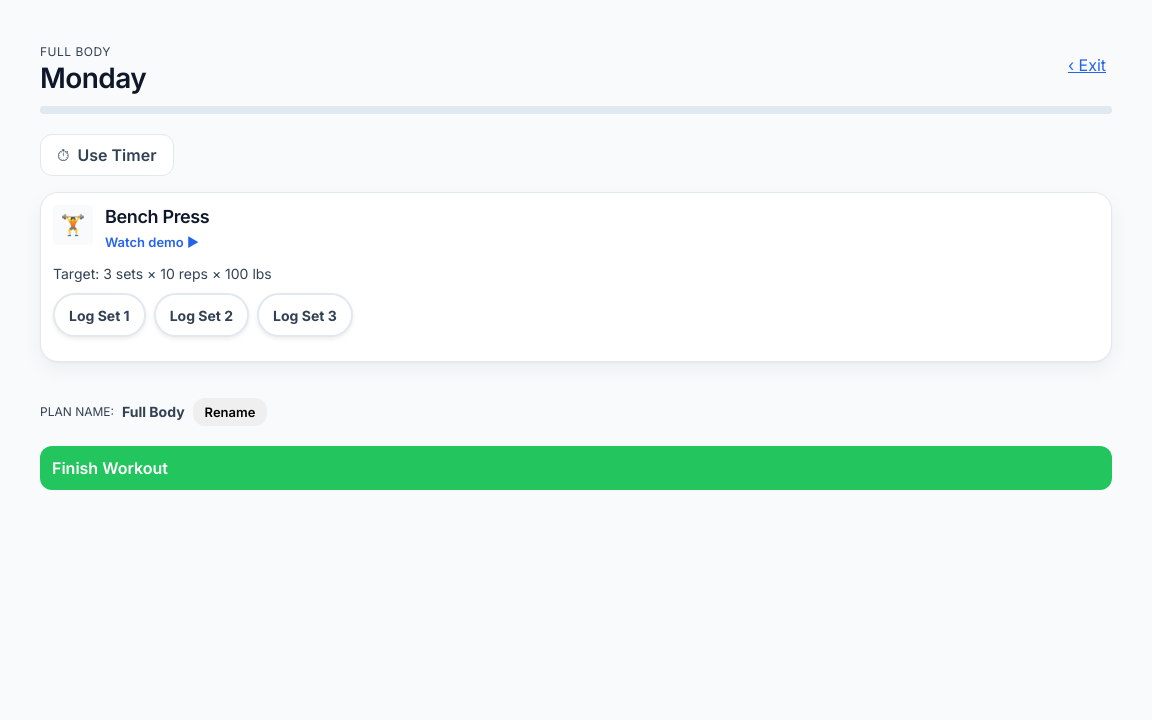
Test: ActiveWorkout › Standalone manual timer › Reset stops the timer and zeroes the display
Step 1. Click the button "⏱ Use Timer" → (107,155), box [40,134,174,176]
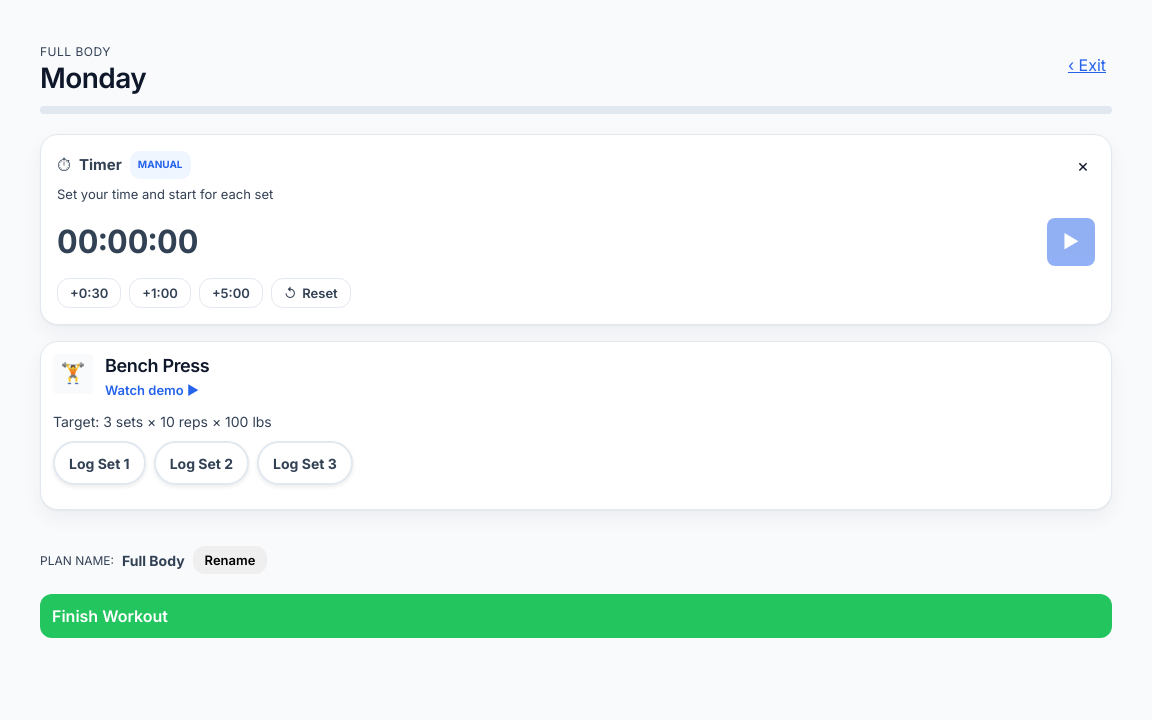
Step 2. Click the button "+1:00" → (160,293), box [129,278,191,308]
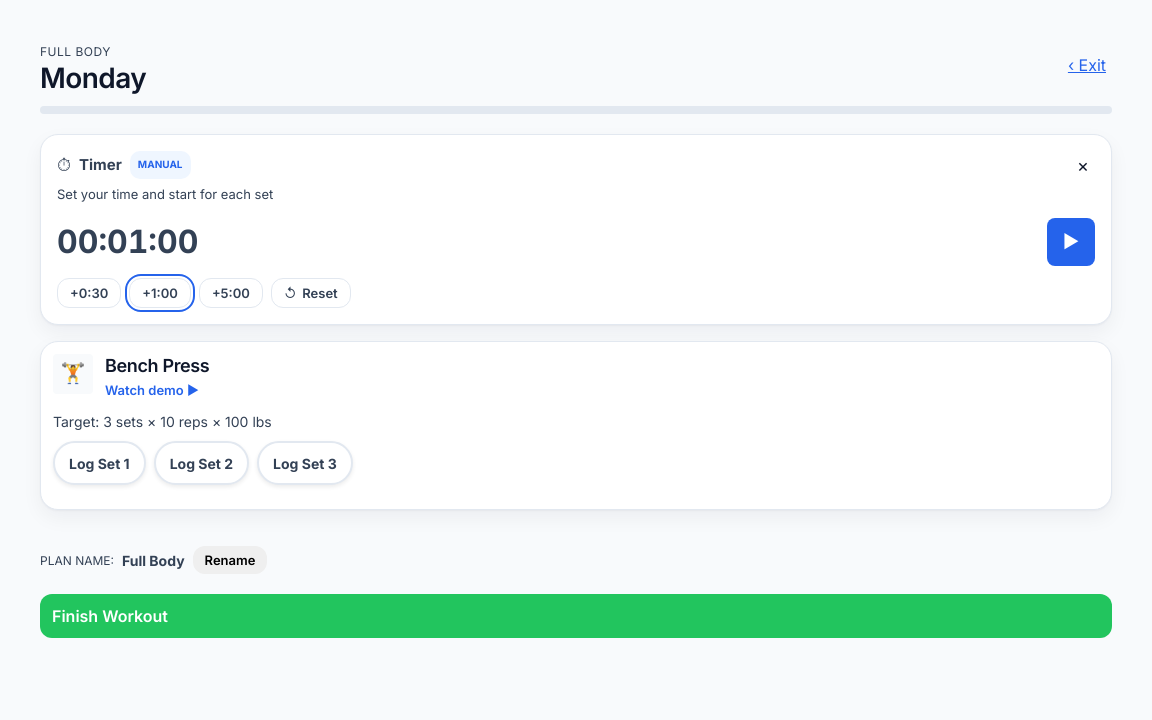
Step 3. Click the button named "Start timer" → (1071,242), box [1047,218,1095,266]
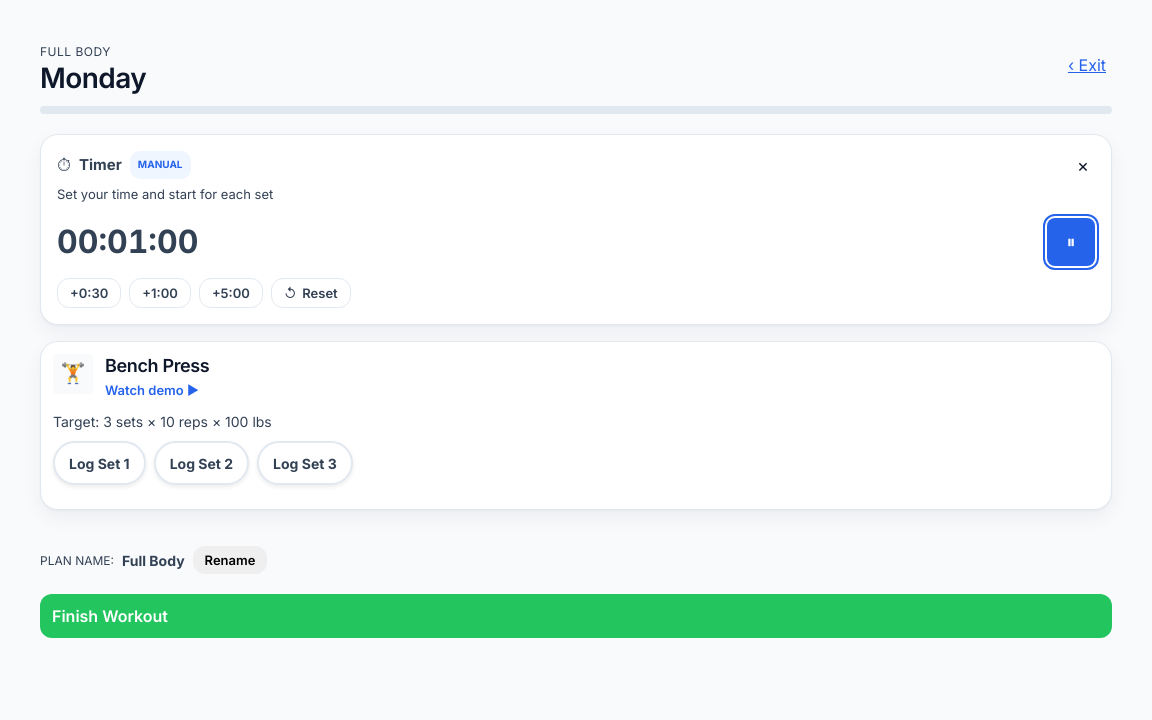
Step 4. Click the button "↺ Reset" → (311,293), box [271,278,351,308]
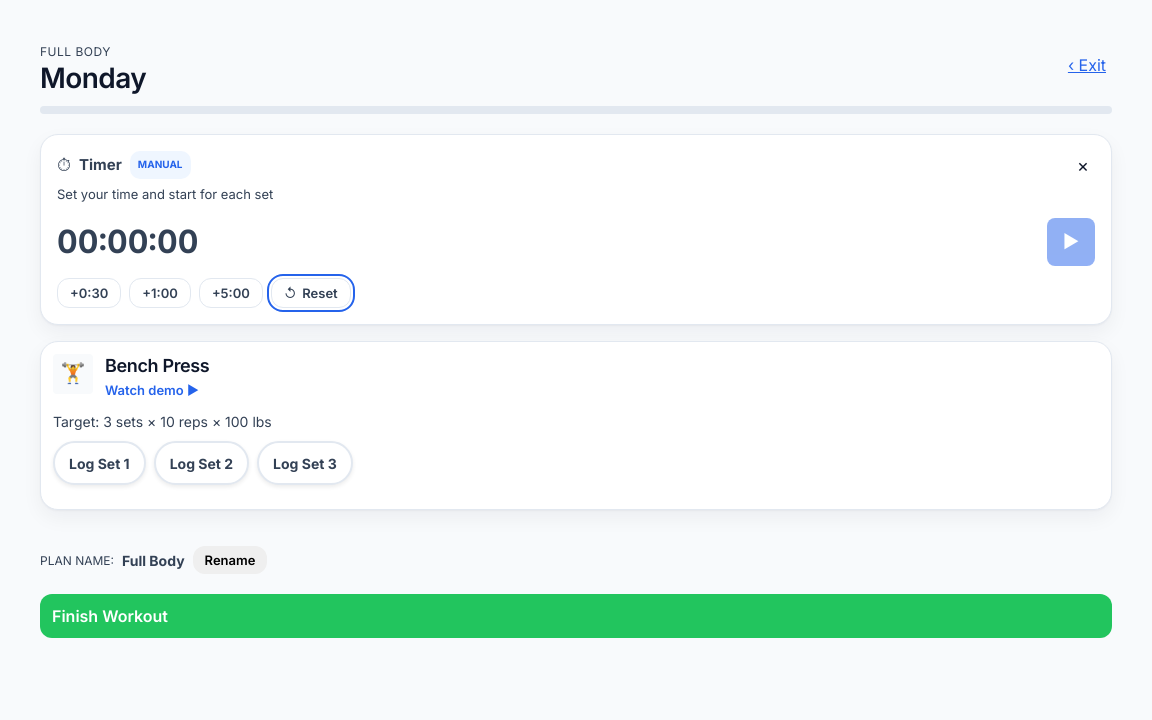
Now the text "00:00:00" is shown, box [57,230,198,253]
Now the button named "Start timer" is shown, box [1047,218,1095,266]
